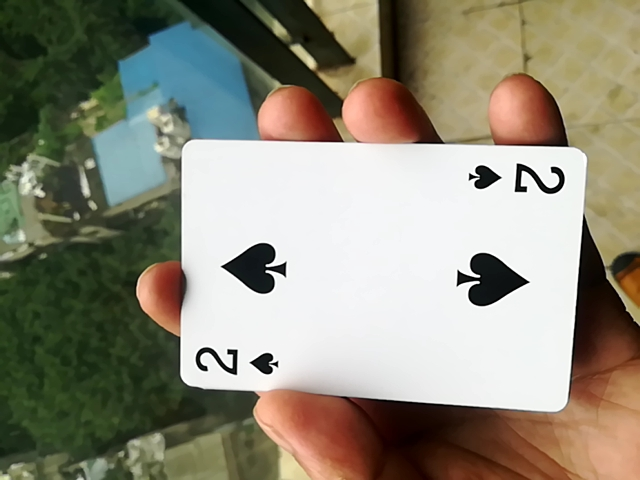ht 2: (164, 134, 579, 419)
